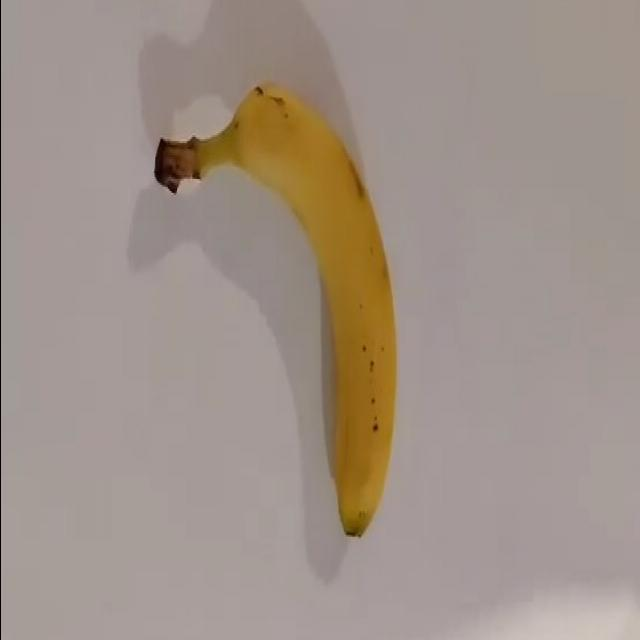Banana: (153, 81, 397, 538)
